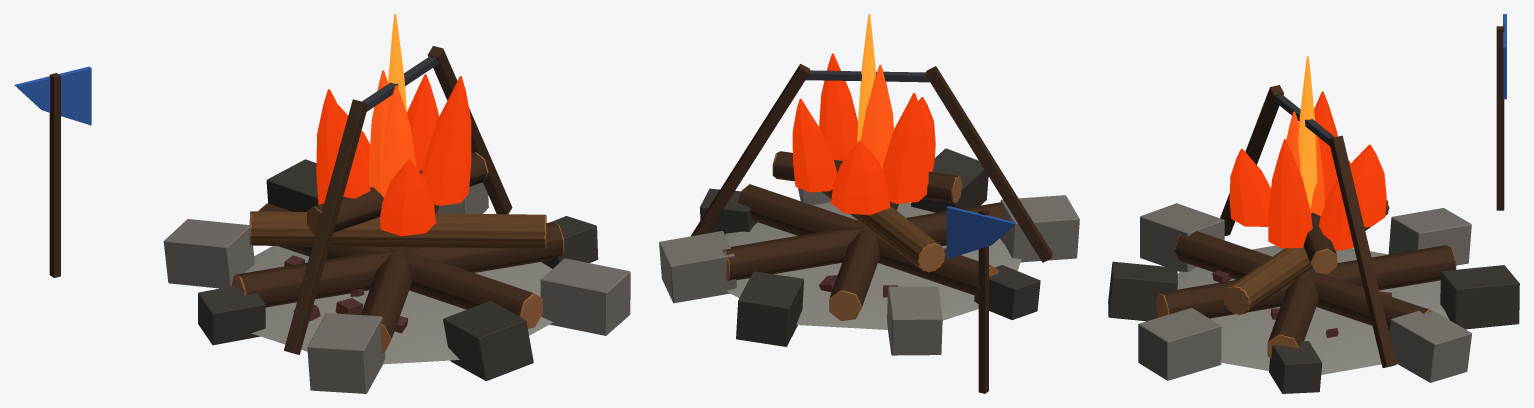
3 renders of one model, left to right at view 1: azimuth 30°, elevation 25°; view 2: azimuth 150°, elevation 25°; view 3: azimuth 270°, elevation 25°, orthographic. The views are drawn at different scales.
Parts seen in each view (by area): view 1: BF-wood_dark, BF-stone_mid, BF-flame_out, BF-stone_dark, BF-wood_mid, BF-ash, BF-ember, BF-team, BF-wood_warm, BF-coal, BF-flame_in, BF-iron; view 2: BF-wood_dark, BF-flame_out, BF-stone_mid, BF-stone_dark, BF-ash, BF-team, BF-wood_mid, BF-ember, BF-wood_warm, BF-flame_in, BF-iron; view 3: BF-wood_dark, BF-stone_mid, BF-flame_out, BF-stone_dark, BF-ash, BF-wood_mid, BF-wood_warm, BF-flame_in, BF-ember, BF-iron, BF-coal.
Boxes of the visible parts, x1,y1,x2,y2 form: BF-wood_dark: (49,46,563,354); BF-stone_mid: (163,182,630,393); BF-flame_out: (316,74,471,236); BF-stone_dark: (198,159,598,381); BF-wood_mid: (250,211,545,248); BF-ash: (245,246,553,364); BF-ember: (369,70,416,197); BF-team: (14,66,91,125); BF-wood_warm: (231,152,564,352); BF-coal: (284,255,408,333); BF-flame_in: (388,14,407,114); BF-iron: (352,56,438,111); BF-wood_dark: (691,64,1052,393); BF-flame_out: (792,53,935,215); BF-stone_mid: (659,188,1079,355); BF-stone_dark: (700,148,1040,346); BF-ash: (725,202,1021,329); BF-team: (946,206,1016,258); BF-wood_mid: (821,189,942,269); BF-ember: (860,65,893,169); BF-wood_warm: (722,151,998,321); BF-flame_in: (857,14,875,142); BF-iron: (796,70,939,82); BF-wood_dark: (1159,26,1504,367); BF-stone_mid: (1138,203,1471,382); BF-flame_out: (1229,91,1386,250); BF-stone_dark: (1108,261,1519,393); BF-ash: (1177,245,1449,374); BF-wood_mid: (1229,200,1389,312); BF-wood_warm: (1155,200,1456,358); BF-flame_in: (1298,56,1317,209); BF-ember: (1286,111,1324,216); BF-iron: (1274,94,1342,145); BF-coal: (1212,270,1391,337).
Size of the model in its own units: 3.17 by 1.89 by 2.72.
